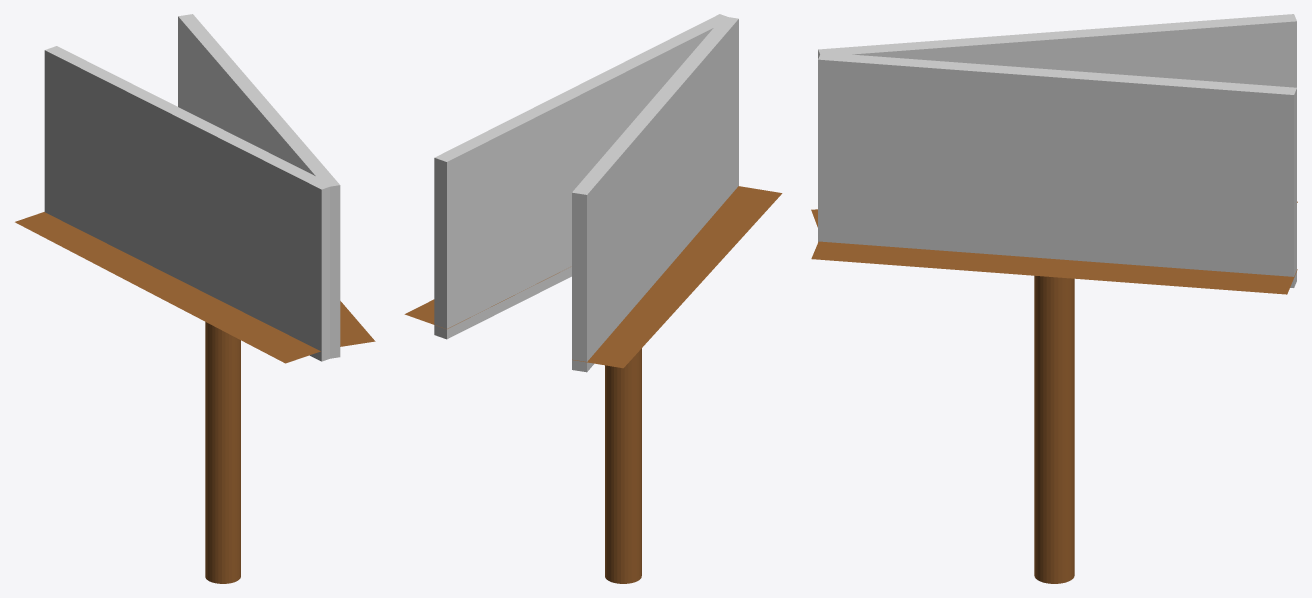
The model's file is Billboard.glb.
The picture shows the model from 3 angles, left to right: view 1: azimuth 30°, elevation 25°; view 2: azimuth 150°, elevation 25°; view 3: azimuth 270°, elevation 25°; orthographic projection. The views are drawn at different scales.
Parts seen in each view (by area): view 1: Board 2, Board 1, Stand, Plane.001, Plane; view 2: Board 1, Board 2, Plane.001, Stand, Plane; view 3: Board 1, Board 2, Stand, Plane.
Part boxes in pixels (x1,y1,x2,y2): Board 2: (44,46,331,361); Board 1: (178,14,340,358); Stand: (205,322,240,583); Plane.001: (15,212,320,363); Plane: (340,301,375,346); Board 1: (434,14,731,339); Board 2: (572,16,738,372); Plane.001: (572,186,782,368); Stand: (605,348,641,583); Plane: (404,272,559,329); Board 1: (818,52,1296,287); Board 2: (818,14,1296,87); Stand: (1034,275,1074,583); Plane: (811,241,1297,294).
Size of the model in its own units: 13.72 by 28.62 by 24.17.
